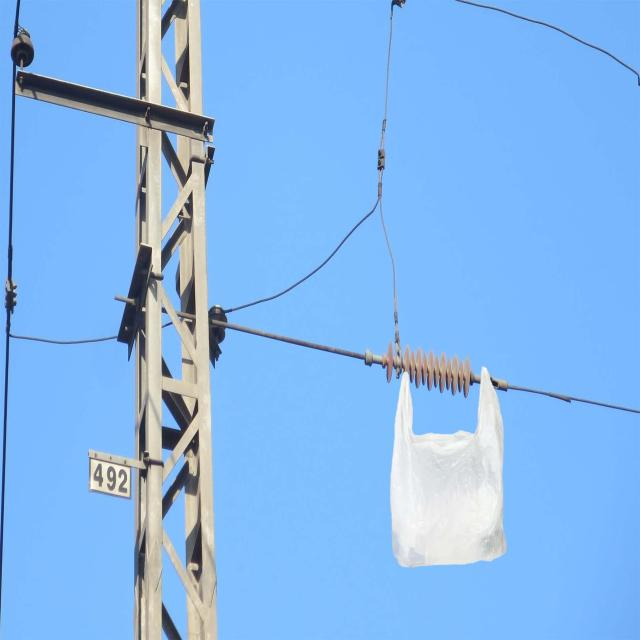plastic bag: (389, 366, 512, 566)
